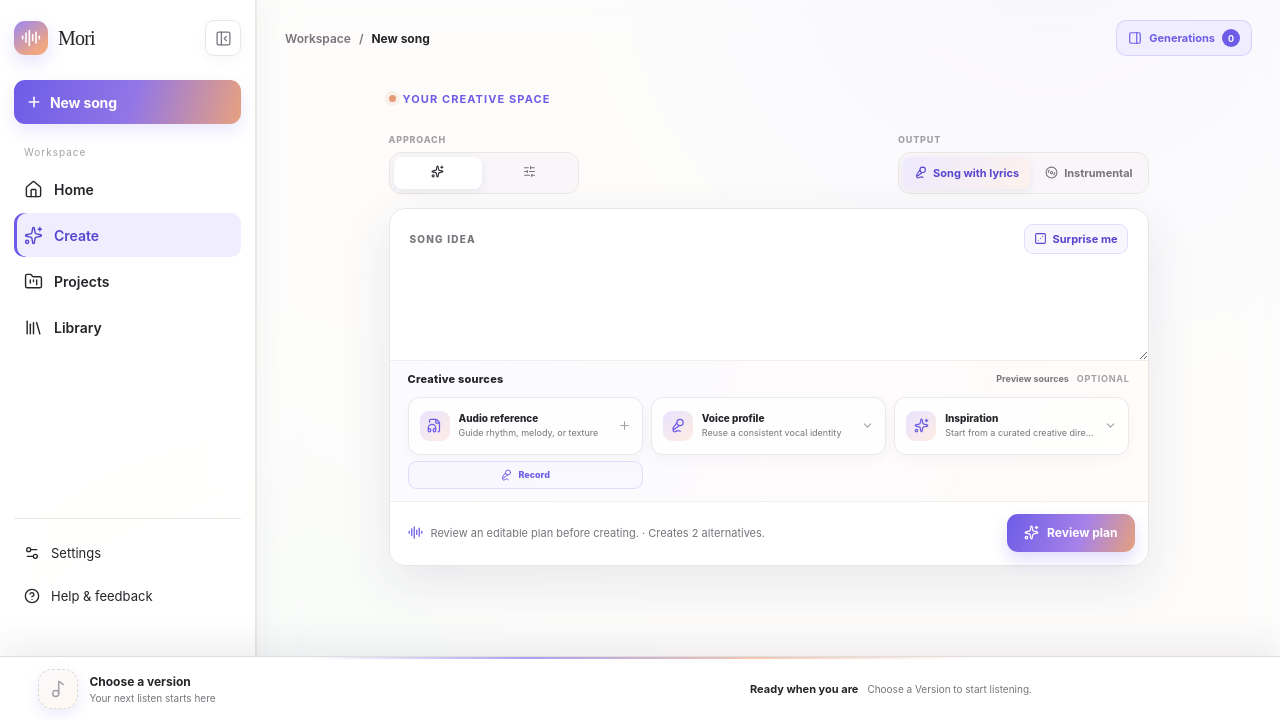
Test case: Mori workspace › keeps an empty creation in place and explains that a song idea is required
The width and height of the screenshot is (1280, 720).
What coordinates should you click on to do the following:
click the button "Review plan"
I would click on:
 (1071, 532)
Its box is [1007,514,1134,552].
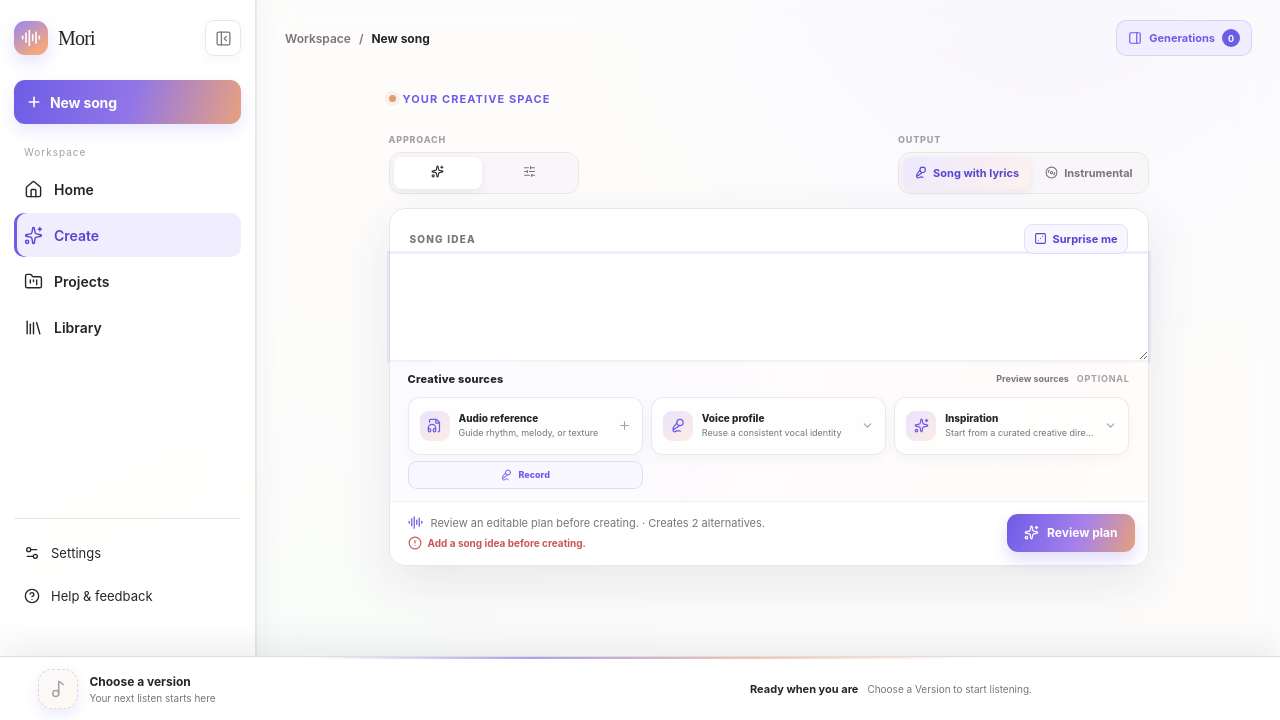
Expected: the message "Add a song idea before creating." is shown, [408,536,586,550]
